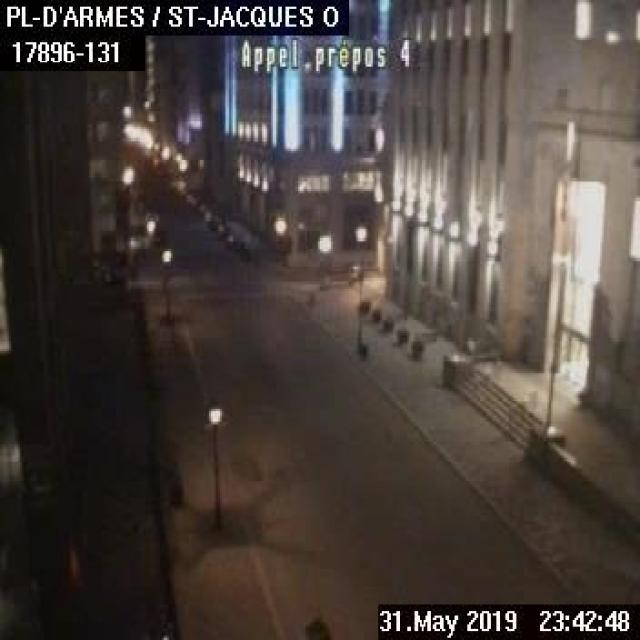vehicle: (89, 253, 125, 283), (318, 261, 360, 281), (225, 230, 246, 247)
